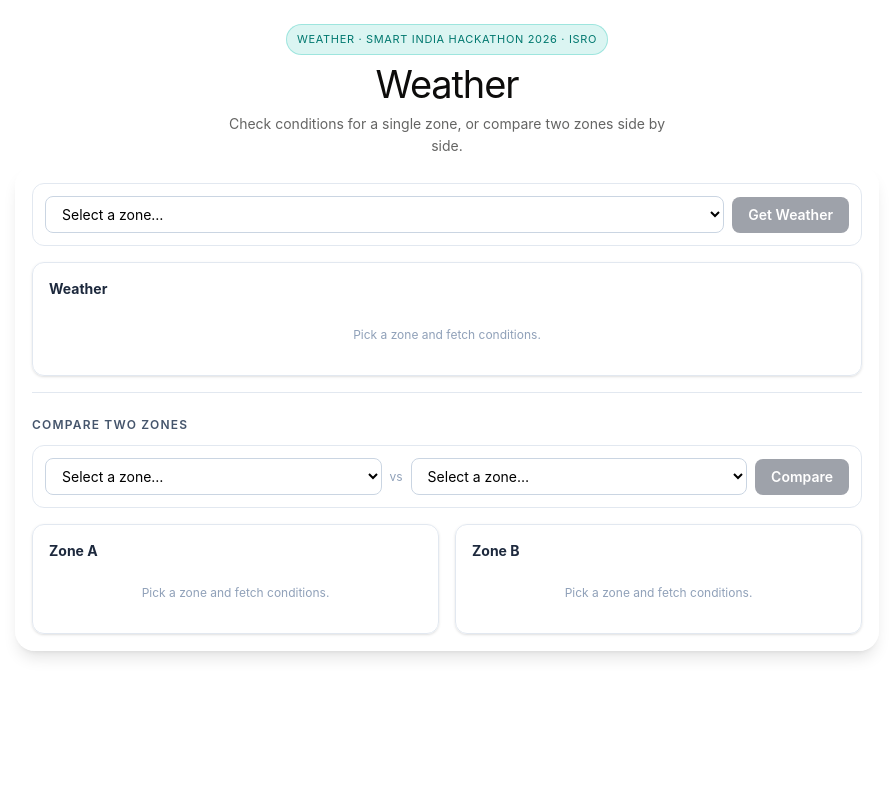
Test: WeatherPage — fetching a single zone's conditions › running the ML forecast only becomes available after a snapshot has loaded
The image size is (895, 804).
Check: the button "Run ML Forecast" is not shown
Select "PFZ-001 — near Kochi" in the 1st dropdown at (385, 214), box [45,196,724,233]
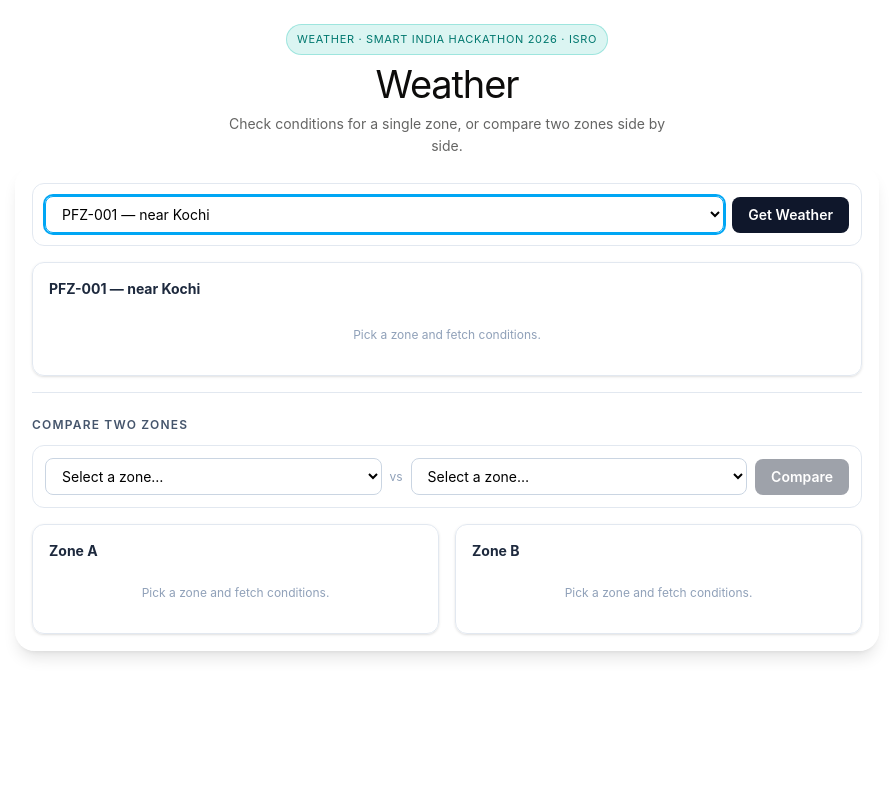
Click the button "Get Weather" at (791, 214), box [732,196,849,232]
(page scrolled)
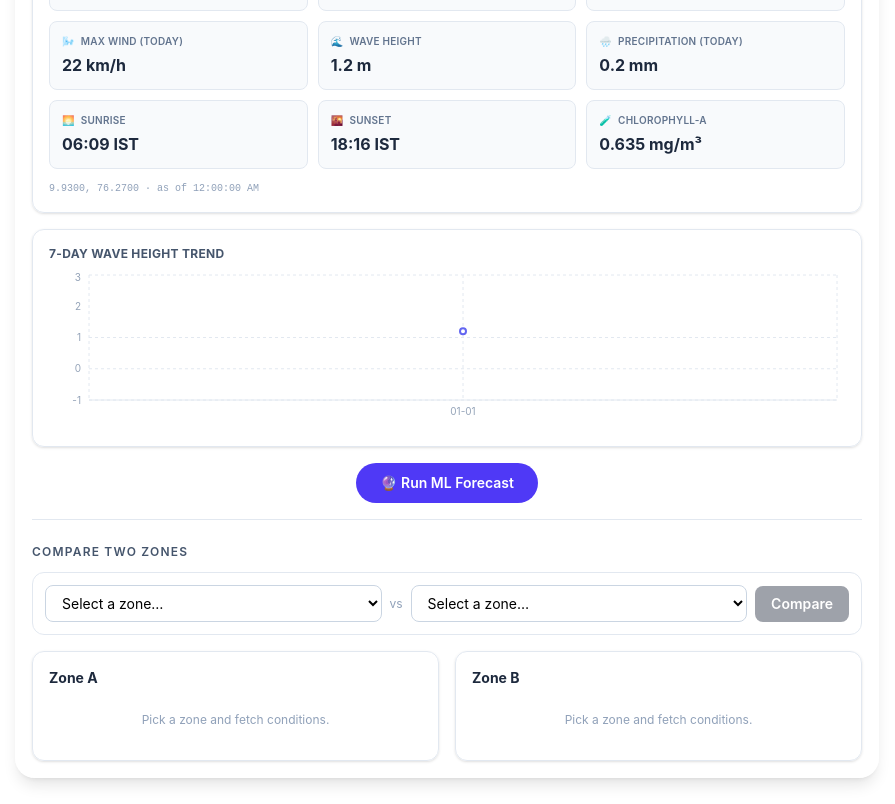
Check: the button "🔮 Run ML Forecast" is shown, box [356,463,538,503]
